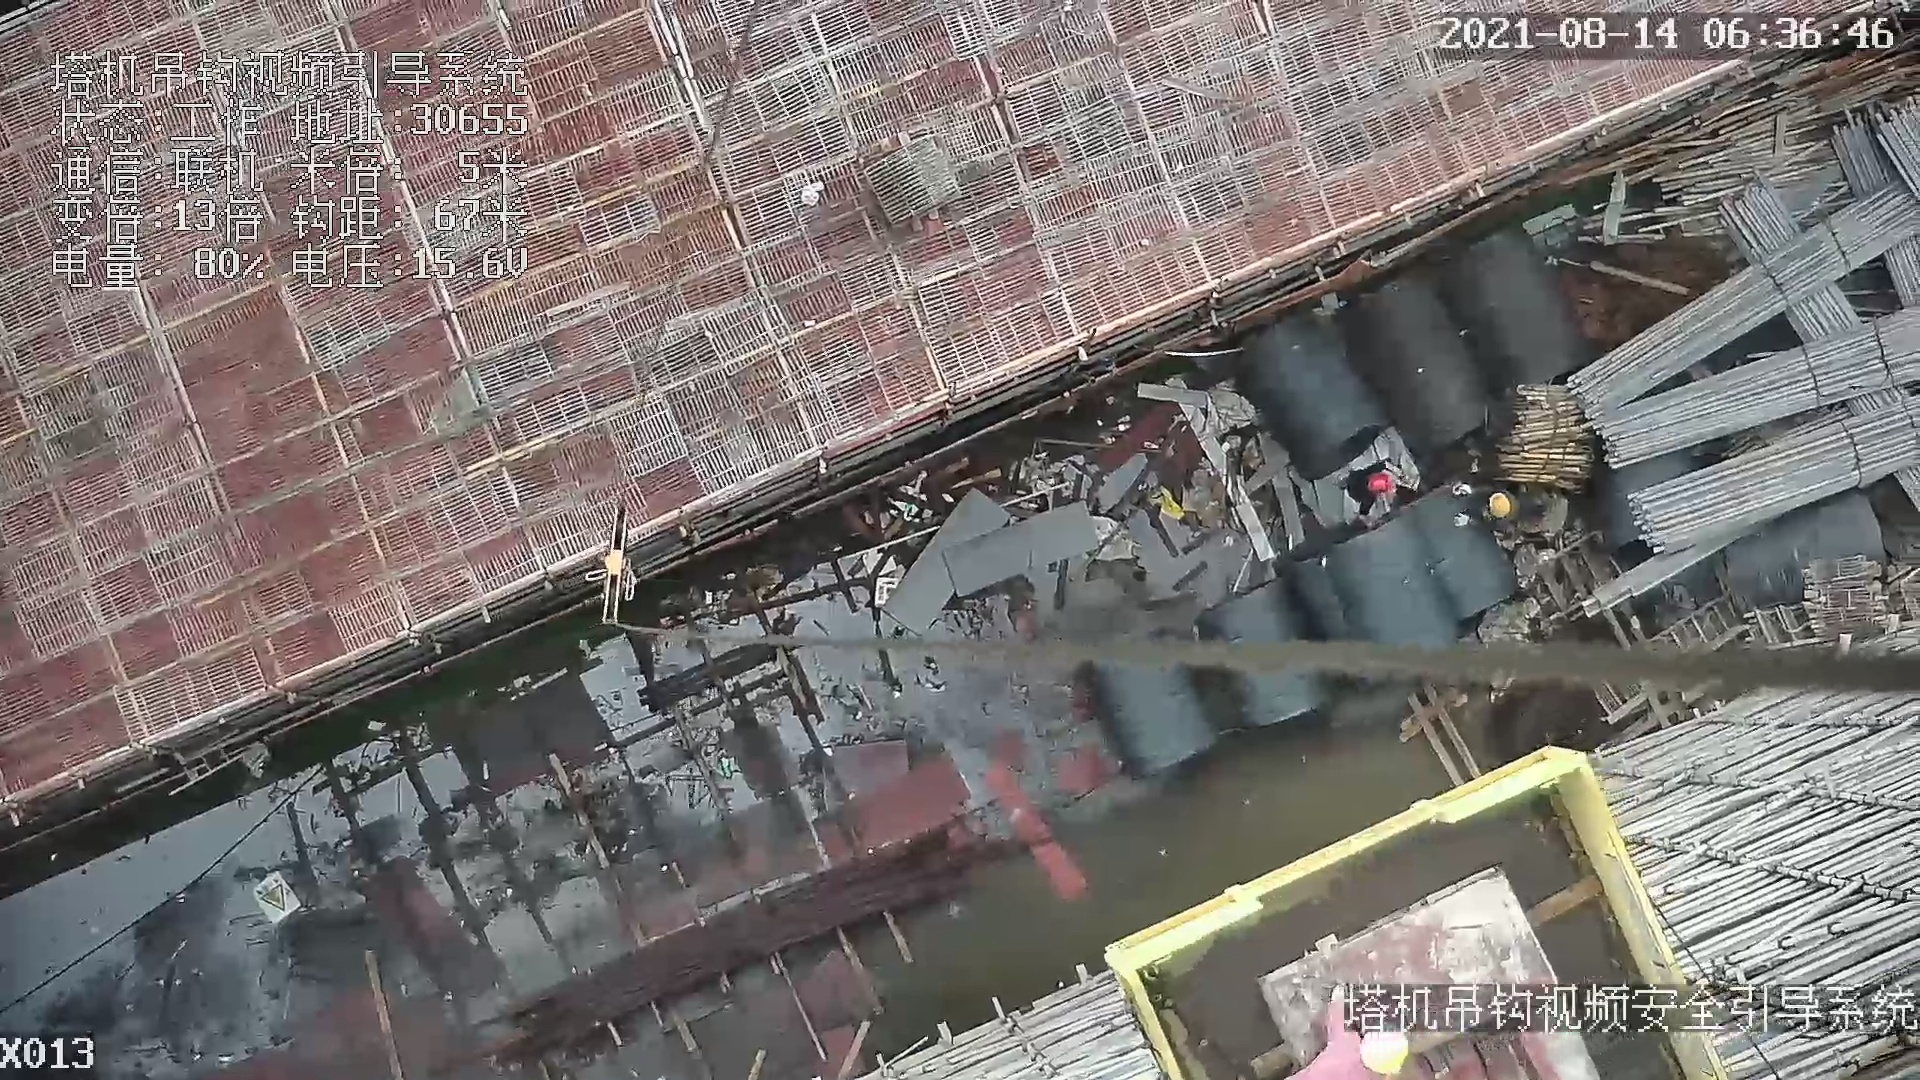helmet: (1361, 1026, 1406, 1071), (1487, 492, 1515, 526), (1367, 467, 1395, 496)
hook: (586, 506, 650, 630)
person: (1277, 997, 1408, 1080), (1450, 473, 1579, 549), (1336, 451, 1406, 527)
scaffold: (1574, 118, 1920, 592), (1476, 371, 1608, 496)
